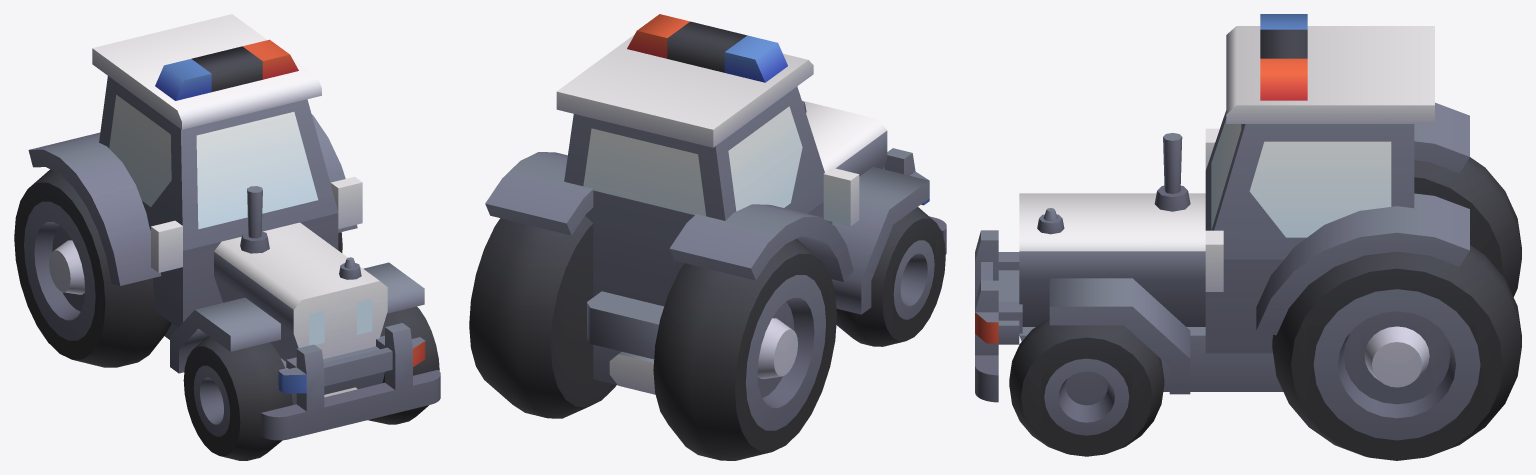
File: polistraktor.glb
3 renders of one model, left to right at view 1: azimuth 30°, elevation 25°; view 2: azimuth 150°, elevation 25°; view 3: azimuth 270°, elevation 25°, orthographic. The views are drawn at different scales.
Visible parts, largest first — view 1: body, wheel-back-right, grill, wheel-front-right, wheel-front-left; view 2: body, wheel-back-right, wheel-back-left, wheel-front-right, grill; view 3: body, wheel-back-left, wheel-front-left, wheel-back-right, grill.
Part boxes in pixels (x1,y1,x2,y2): body: (28,14,424,404); wheel-back-right: (14,169,171,367); grill: (261,323,440,440); wheel-front-right: (183,336,292,460); wheel-front-left: (368,306,439,424); body: (485,14,929,394); wheel-back-right: (653,239,836,460); wheel-back-left: (469,216,616,418); wheel-front-right: (836,207,945,346); grill: (883,148,946,254); body: (998,14,1469,394); wheel-back-left: (1272,245,1521,460); wheel-front-left: (1009,318,1164,456); wheel-back-right: (1414,157,1521,296); grill: (975,230,1022,402).
Size of the model in its own units: 1.34 by 1.7 by 2.3.
Materials: 1 (1 with a texture image).
